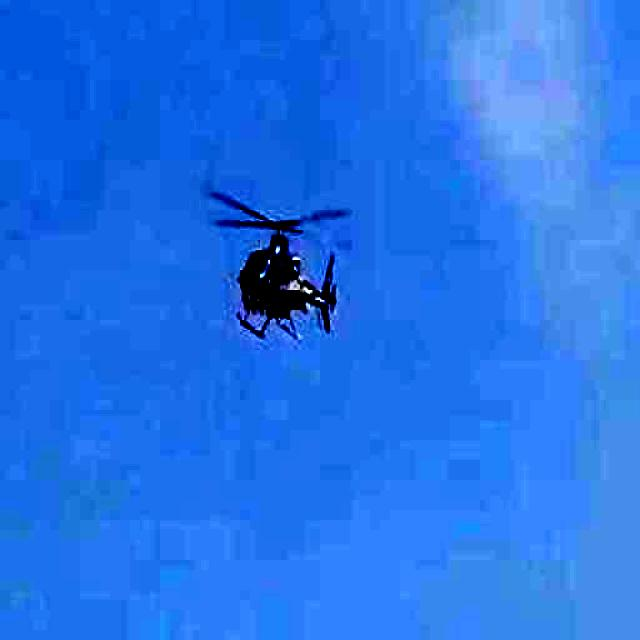drone: (158, 171, 389, 361)
